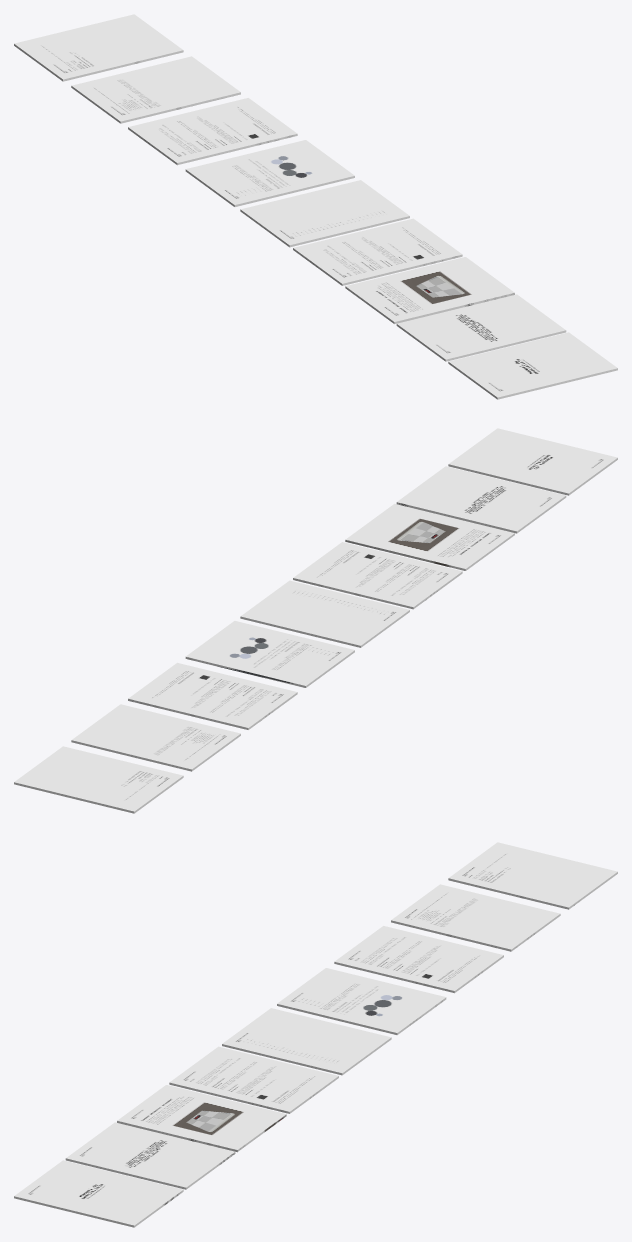
The model's file is pages.fbx.
The picture shows the model from 3 angles, top to bottom: view 1: azimuth 30°, elevation 25°; view 2: azimuth 150°, elevation 25°; view 3: azimuth 330°, elevation 25°; orthographic projection.
Parts seen in each view (by area): view 1: page2, page1, page4, page4.003, page4.004, page3, page5, page4.001, page4.002; view 2: page2, page1, page4, page4.003, page4.004, page3, page5, page4.001, page4.002; view 3: page2, page1, page4, page4.003, page4.004, page3, page5, page4.001, page4.002.
Part boxes in pixels (x1,y1,x2,y2): page2: (396,294,566,361); page1: (448,332,617,399); page4: (240,180,409,247); page4.003: (71,56,240,123); page4.004: (14,14,183,81); page3: (345,257,514,324); page5: (293,218,462,285); page4.001: (185,140,354,206); page4.002: (128,98,297,165); page2: (396,466,566,533); page1: (448,428,617,495); page4: (240,580,409,647); page4.003: (71,704,240,771); page4.004: (14,746,183,813); page3: (345,503,514,570); page5: (293,542,462,609); page4.001: (185,621,354,687); page4.002: (128,662,297,729); page2: (65,1122,235,1189); page1: (14,1160,183,1227); page4: (222,1008,391,1075); page4.003: (391,884,560,951); page4.004: (448,842,617,909); page3: (117,1085,286,1152); page5: (169,1046,338,1113); page4.001: (277,968,446,1034); page4.002: (334,926,503,993).
Size of the model in its own units: 5940 by 100 by 41322.
Materials: 9 (9 with a texture image).
